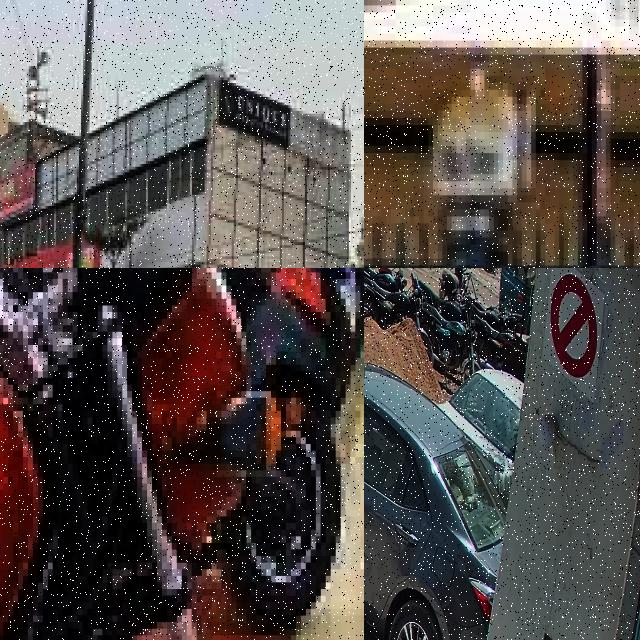bike: (0, 268, 364, 640), (421, 297, 480, 384), (364, 268, 422, 330), (412, 274, 470, 323), (474, 314, 516, 371), (364, 268, 403, 325), (472, 294, 506, 331), (439, 268, 470, 302)
car: (364, 360, 505, 640), (446, 369, 521, 468)
